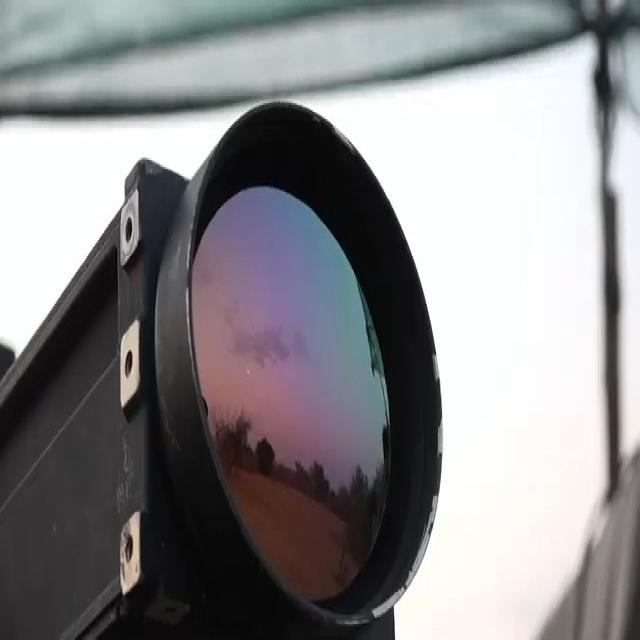device: (0, 89, 463, 638)
